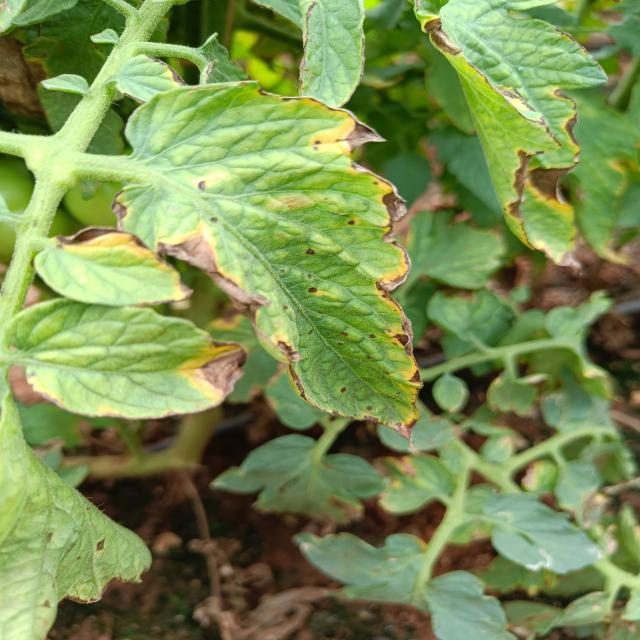Tomato mosaic virus leaf: (111, 80, 435, 446), (412, 0, 614, 278)
